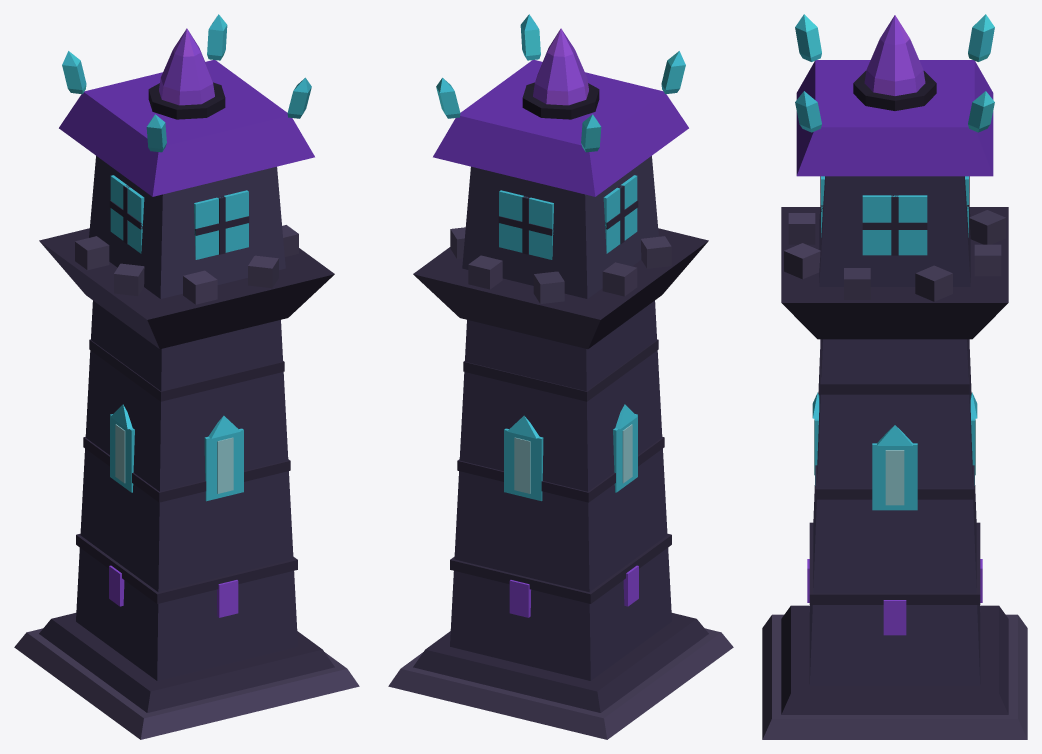
Rendered from Decor_VoidPortal_Watchtower.fbx.
The picture shows the model from 3 angles, left to right: view 1: azimuth 30°, elevation 25°; view 2: azimuth 150°, elevation 25°; view 3: azimuth 270°, elevation 25°; orthographic projection. The views are drawn at different scales.
Parts seen in each view (by area): view 1: Watchtower_Body; view 2: Watchtower_Body; view 3: Watchtower_Body.
Part boxes in pixels (x1=…): Watchtower_Body: x1=14, y1=14, x2=359, y2=739; Watchtower_Body: x1=388, y1=14, x2=733, y2=739; Watchtower_Body: x1=762, y1=14, x2=1027, y2=739.
Bounding box in the file's own units: 14 × 39 × 14.
